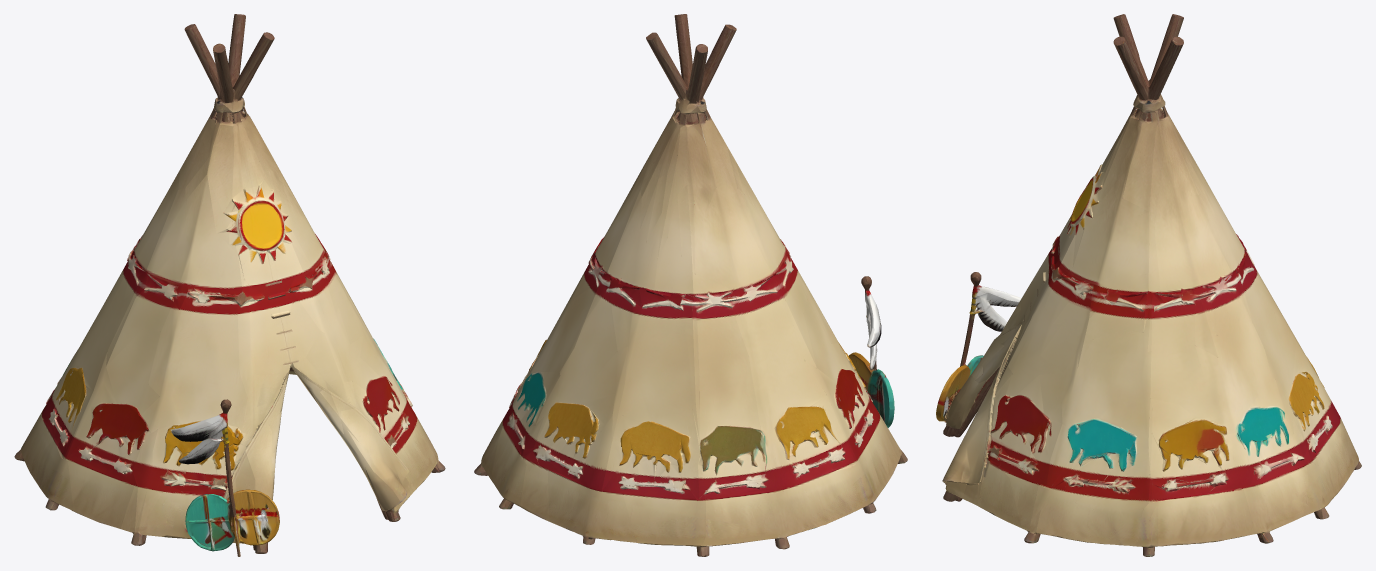
Rendered from bigteepee.glb.
3 views of the same model, side by side, from view 1: azimuth 30°, elevation 25°; view 2: azimuth 150°, elevation 25°; view 3: azimuth 270°, elevation 25° (orthographic).
Bounding box in the file's own units: 1.66 × 1.9 × 1.65.
Materials: 1 (1 with a texture image).
